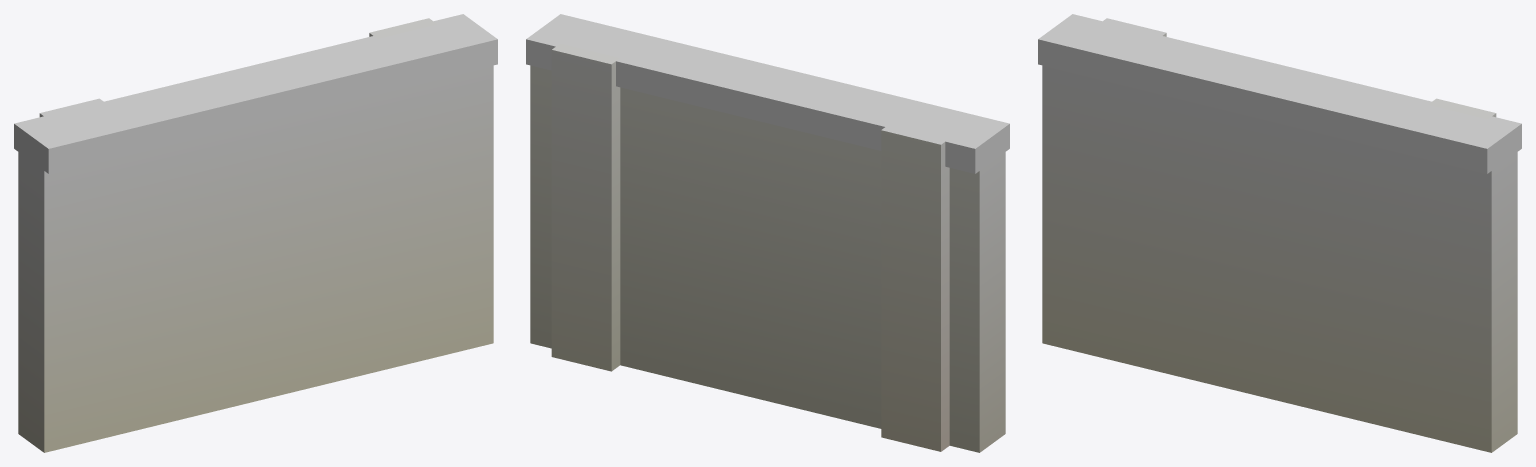
The model's file is uae-wall.glb.
The picture shows the model from 3 angles, left to right: view 1: azimuth 30°, elevation 25°; view 2: azimuth 150°, elevation 25°; view 3: azimuth 330°, elevation 25°; orthographic projection.
Parts seen in each view (by area): view 1: uae-wall; view 2: uae-wall; view 3: uae-wall.
Part boxes in pixels (x1,y1,x2,y2): uae-wall: (14,14,497,452); uae-wall: (526,14,1009,452); uae-wall: (1038,14,1521,452).
Size of the model in its own units: 1.5 by 0.98 by 0.225.
